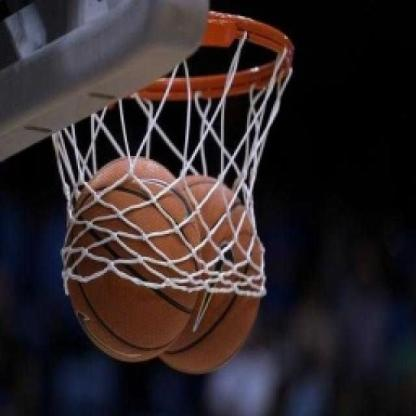basketball: (53, 156, 201, 366), (160, 169, 268, 380)
